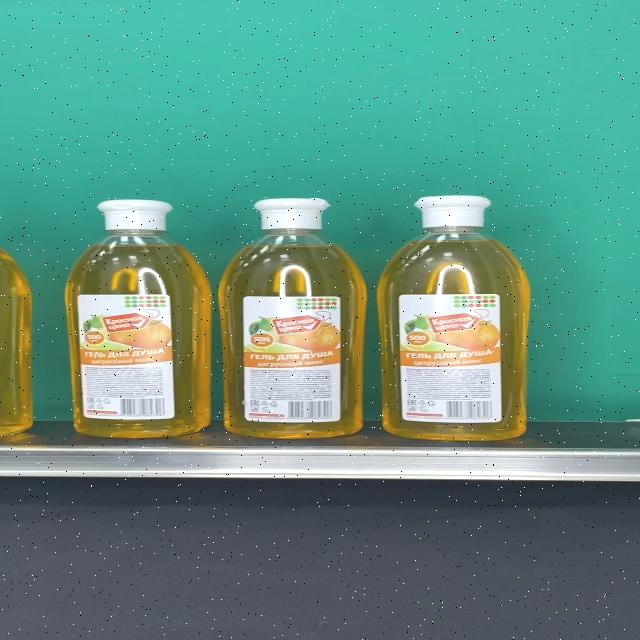Bottle: (377, 195, 530, 441), (64, 199, 213, 438), (220, 198, 368, 438)
Cap: (412, 196, 492, 228), (254, 198, 332, 230), (97, 198, 171, 230)
